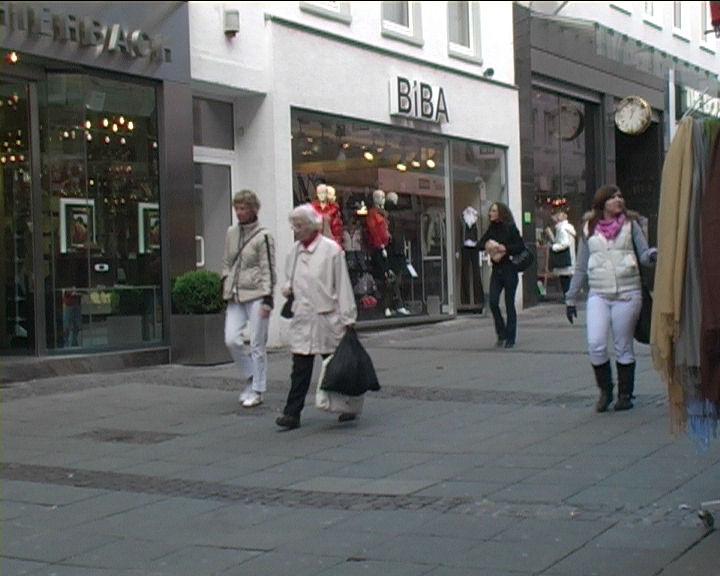undeflect: (281, 206, 349, 269), (225, 191, 269, 251)
